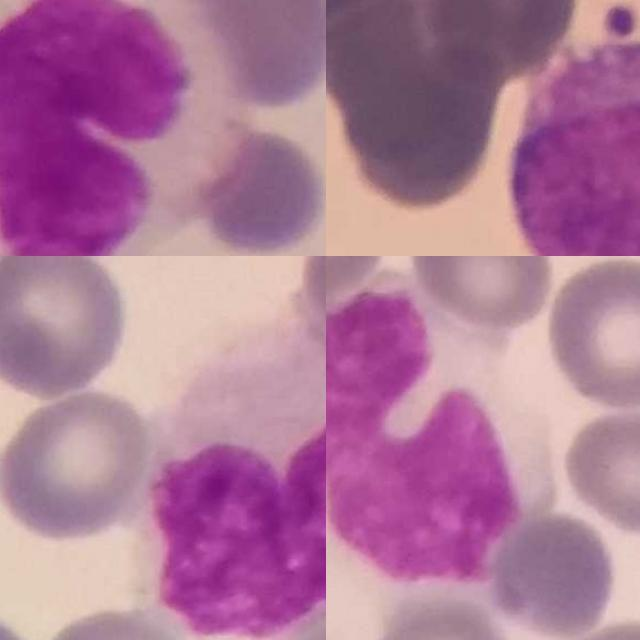Lymphocyte: (505, 41, 640, 256)
Monocyte: (326, 270, 546, 586), (0, 0, 249, 256), (146, 324, 326, 640)
